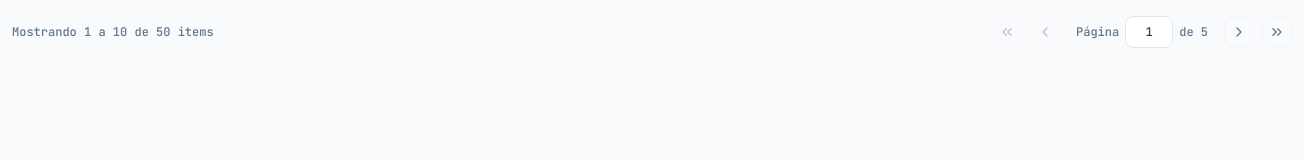
Test: Pagination Component › resets input when invalid page is entered and Enter is pressed
The image size is (1304, 160).
Replace the text in the field with "10" at point(1149, 32), box [1125,16,1173,48]
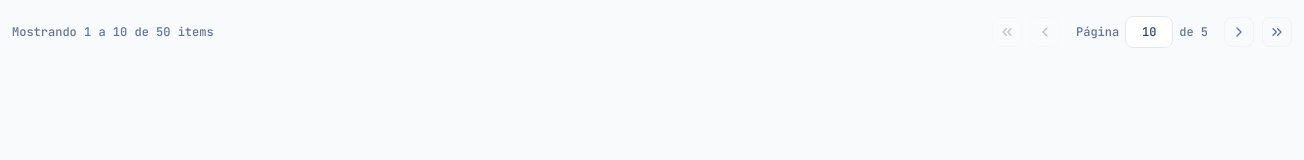
Press Enter in the field, box [1125,16,1173,48]
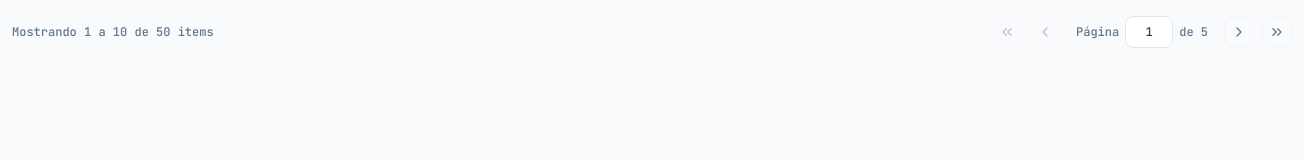
Expected: the field holds "1", [1125,16,1173,48]
